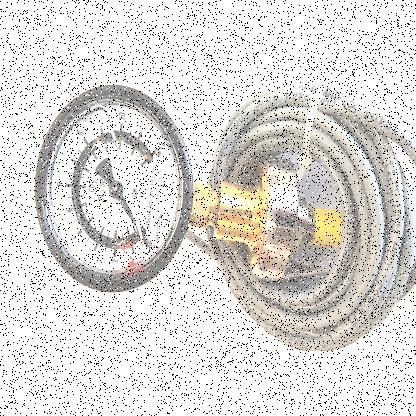needle: (118, 194, 152, 253)
